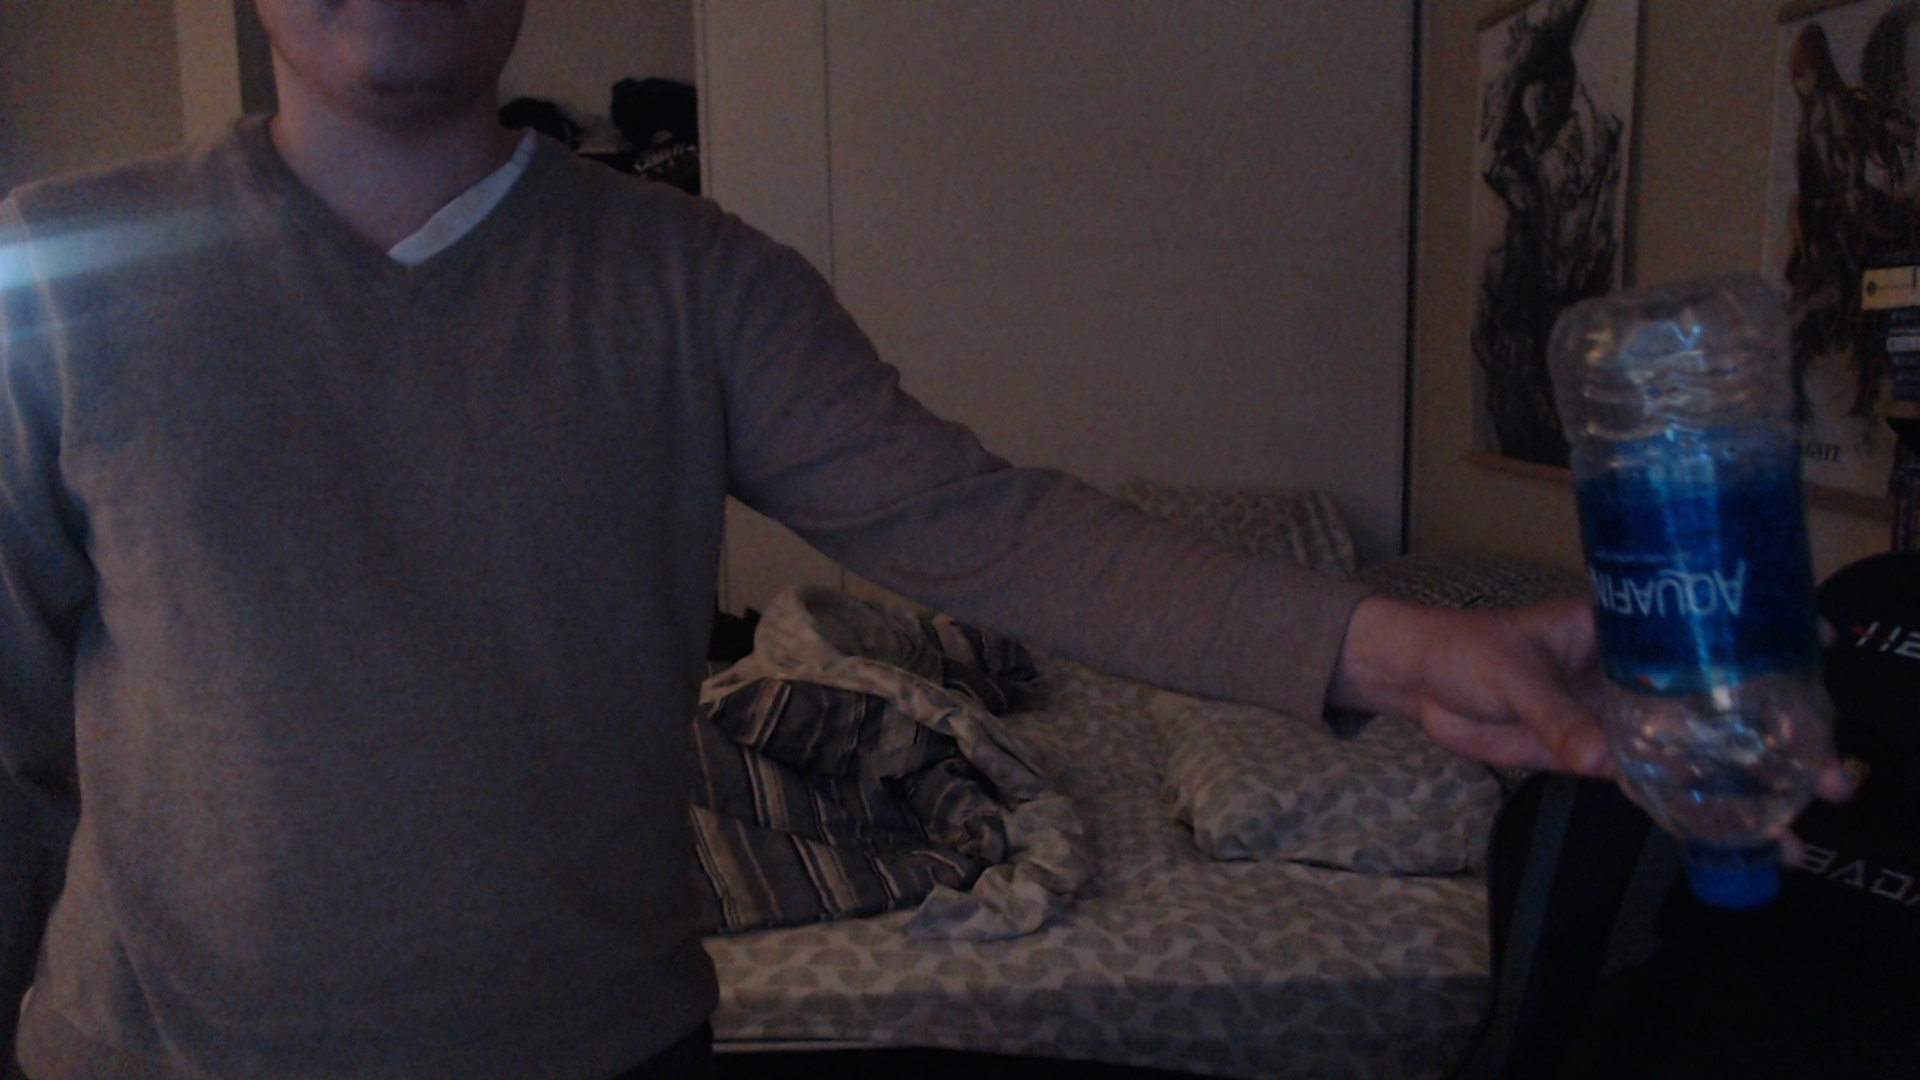bottle: (1540, 262, 1826, 910)
